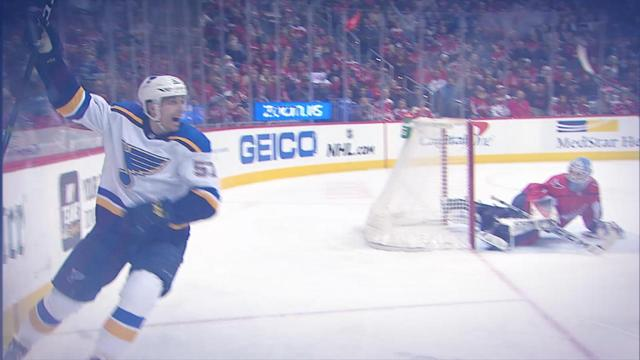geico: (238, 128, 321, 164)
